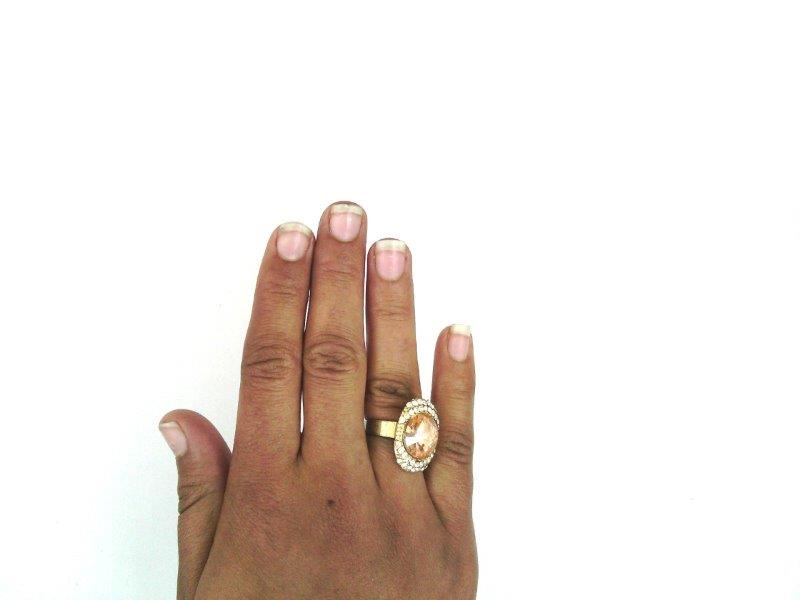hand: (158, 200, 479, 600)
